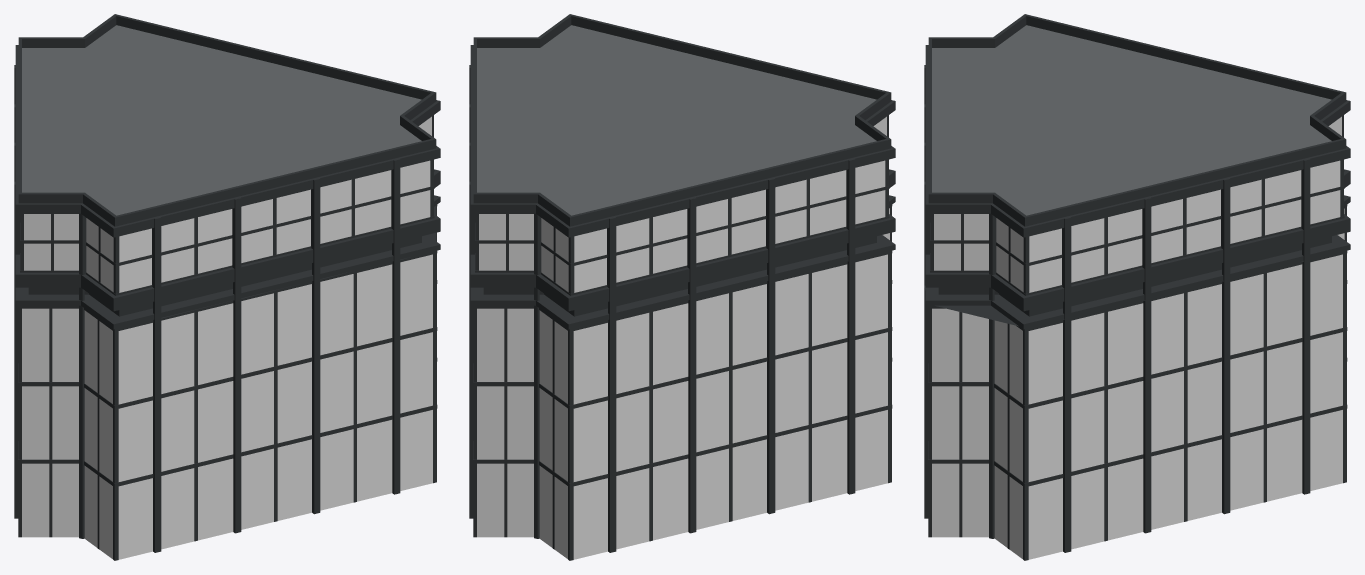
Rendered from SM_Bldg_City_High-Rise_Modern_02_Roof.fbx.
The picture shows the model from 3 angles, left to right: view 1: azimuth 30°, elevation 25°; view 2: azimuth 150°, elevation 25°; view 3: azimuth 270°, elevation 25°; orthographic projection.
Visible parts, largest first — view 1: SM_Bldg_City_High-Rise_Modern_02_Roof; view 2: SM_Bldg_City_High-Rise_Modern_02_Roof; view 3: SM_Bldg_City_High-Rise_Modern_02_Roof.
Boxes of the visible parts, <box> form: SM_Bldg_City_High-Rise_Modern_02_Roof: <box>14,14,440,560</box>; SM_Bldg_City_High-Rise_Modern_02_Roof: <box>469,14,895,560</box>; SM_Bldg_City_High-Rise_Modern_02_Roof: <box>924,14,1350,560</box>.
Size of the model in its own units: 1718 by 1325 by 1493.
